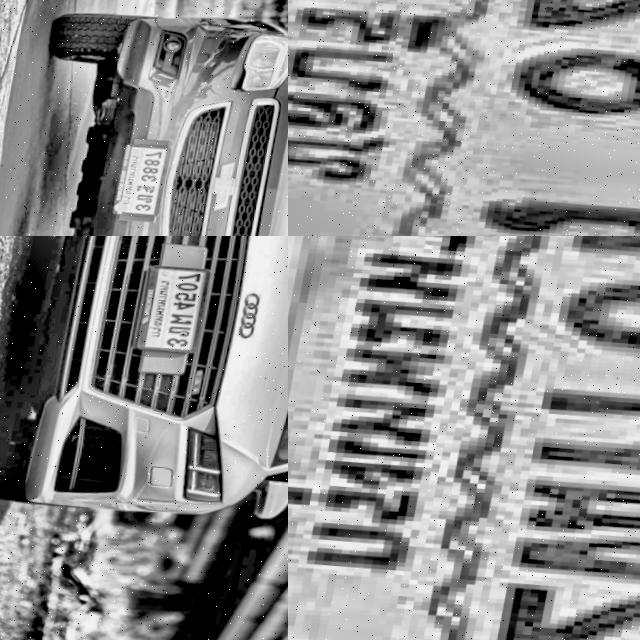license-plate: (288, 236, 640, 640), (288, 0, 640, 236), (138, 264, 223, 355), (116, 135, 178, 224)
